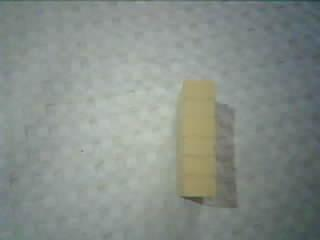lego: (173, 77, 217, 197)
